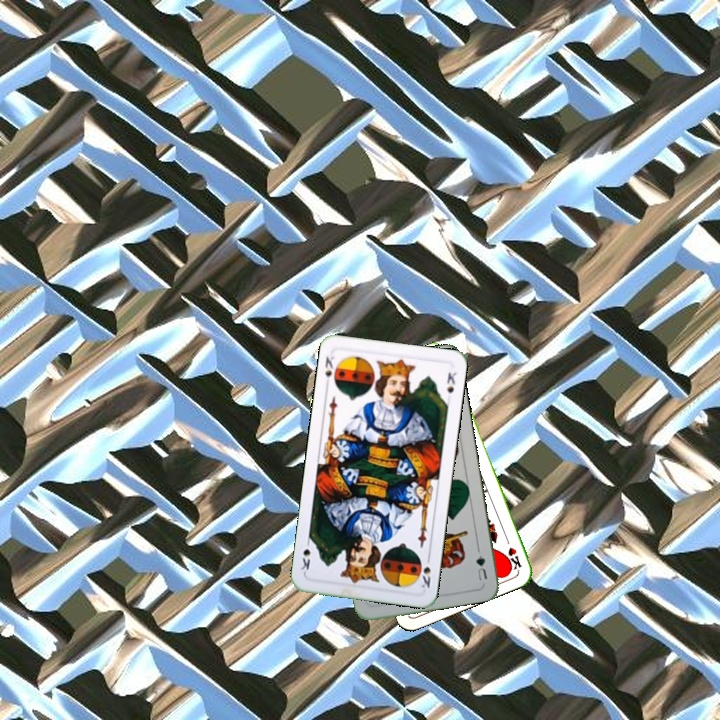GU: (472, 551, 490, 583)
HK: (501, 532, 524, 572)
SK: (416, 551, 433, 590), (321, 352, 337, 379)
